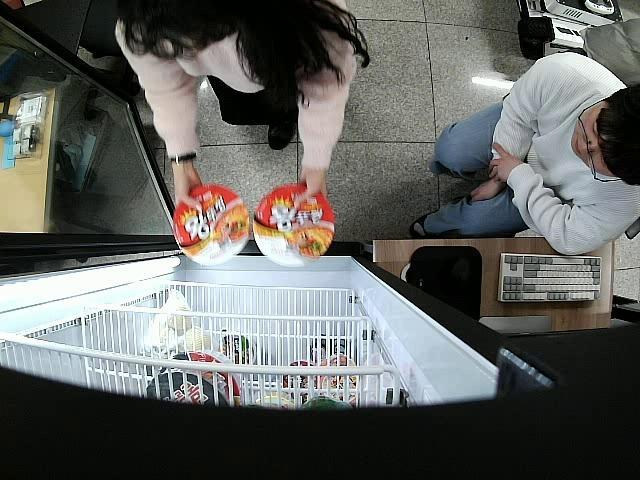10_wangTtukkeong: (253, 185, 336, 264), (173, 186, 248, 265)
